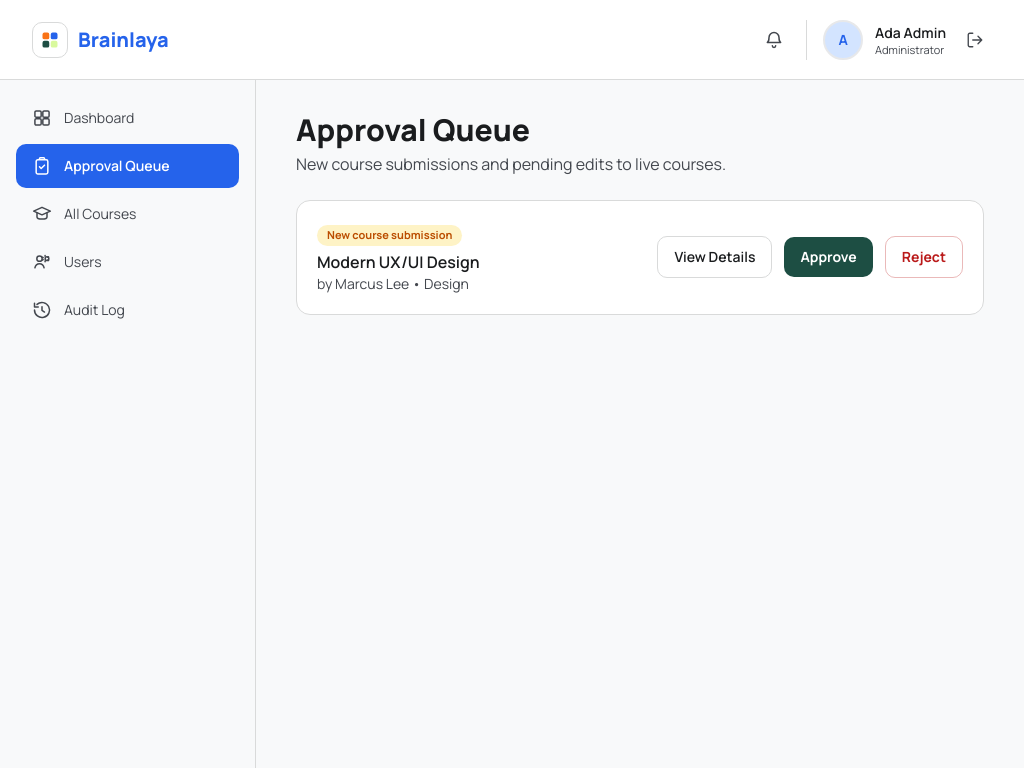
AdminPendingCourses (approve smoke flow) › opens the course details modal with the full description
Check: the text "Modern UX/UI Design" is shown, box [317,250,480,272]
Click the button "View Details" at (715, 257), box [657,236,772,278]
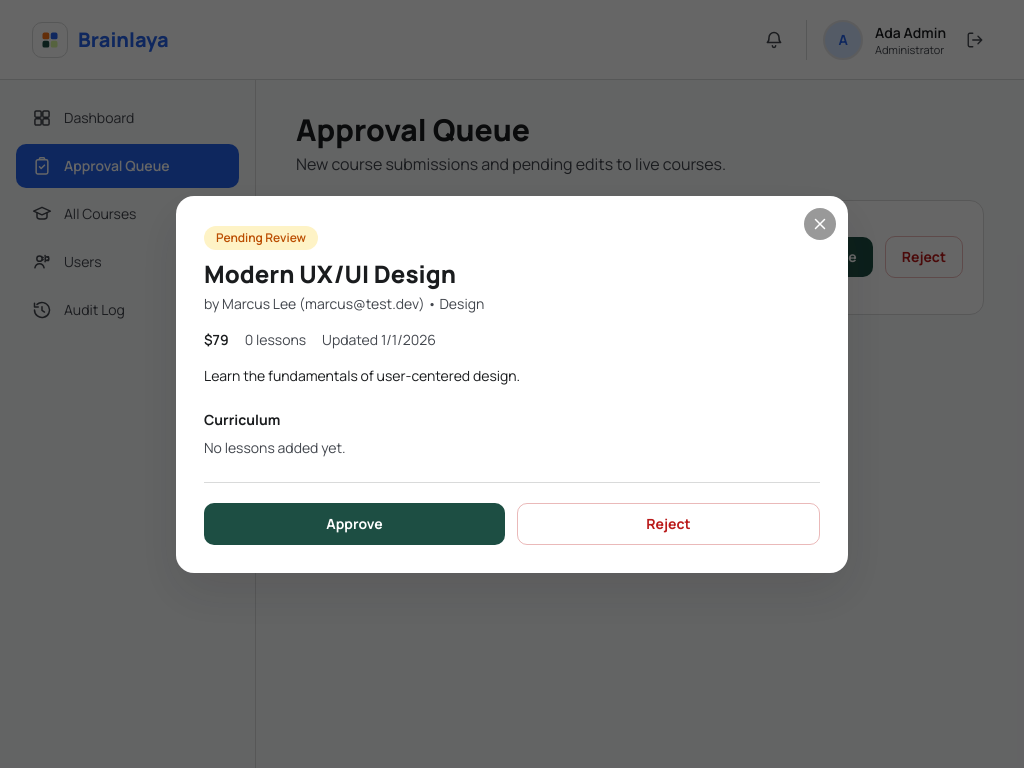
Check: the text "Learn the fundamentals of user-centered design." is shown, box [204,366,520,384]
Check: the text "by Marcus Lee (marcus@test.dev) • Design" is shown, box [204,294,484,314]
